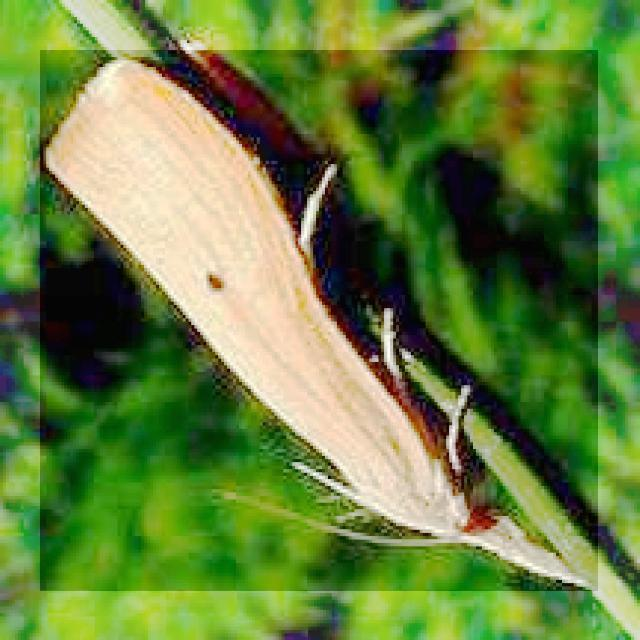stem-borer: (40, 50, 598, 591)
